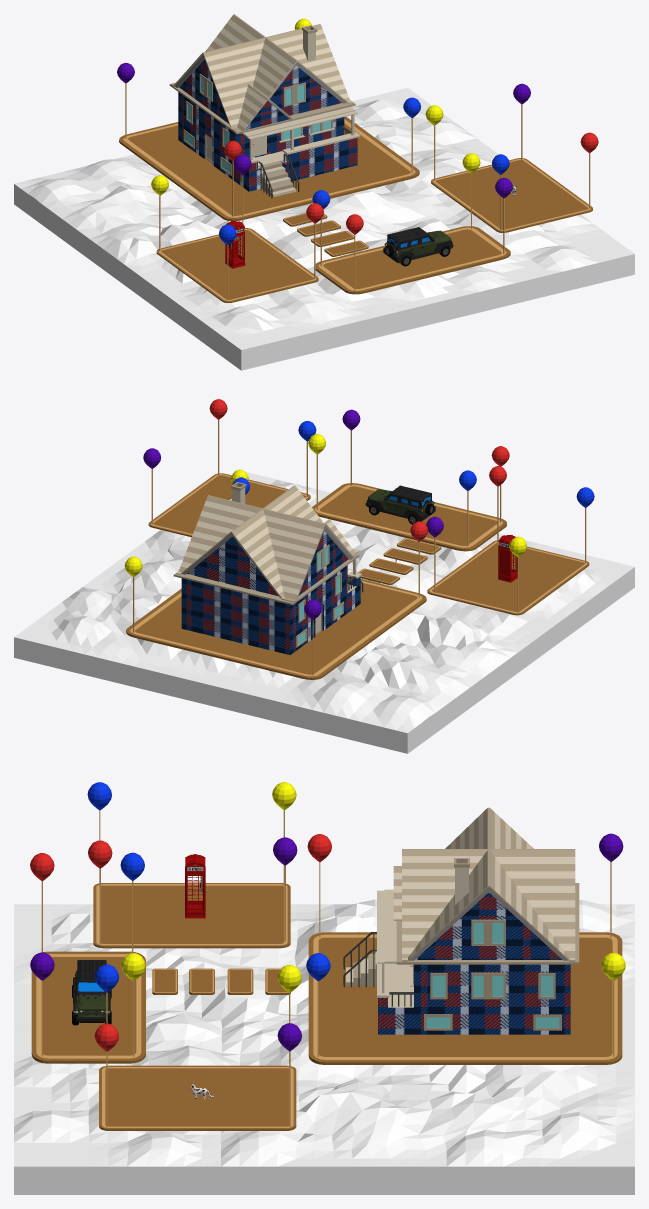
3 renders of one model, top to bottom at view 1: azimuth 30°, elevation 25°; view 2: azimuth 150°, elevation 25°; view 3: azimuth 270°, elevation 25°, orthographic. The views are drawn at different scales.
Parts seen in each view (by area): view 1: Cube.013, Cube.171, VEHICLES_JEEP, OBJRANDOM_PHONEBOOTH; view 2: Cube.013, Cube.171, VEHICLES_JEEP, OBJRANDOM_PHONEBOOTH; view 3: Cube.013, Cube.171, VEHICLES_JEEP, OBJRANDOM_PHONEBOOTH.
Boxes of the visible parts, x1,y1,x2,y2 form: Cube.013: (14,18,634,370); Cube.171: (169,14,360,198); VEHICLES_JEEP: (383,227,453,266); OBJRANDOM_PHONEBOOTH: (225,221,245,268); Cube.013: (14,399,634,753); Cube.171: (173,482,363,654); VEHICLES_JEEP: (365,485,435,524); OBJRANDOM_PHONEBOOTH: (498,535,517,582); Cube.013: (14,782,634,1194); Cube.171: (343,807,579,1034); VEHICLES_JEEP: (72,960,111,1025); OBJRANDOM_PHONEBOOTH: (185,854,205,918).
Bounding box in the file's own units: 4000 × 1638 × 4000.
Materials: 38 (3 with a texture image).
